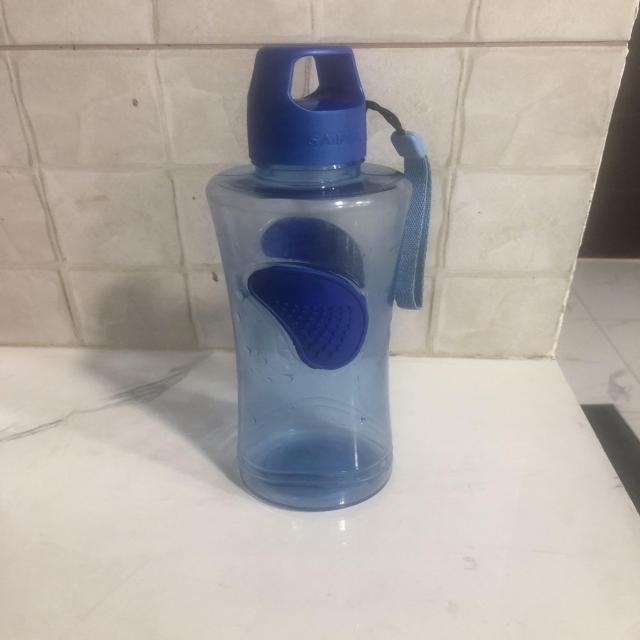gym bottle: (206, 38, 433, 512)
